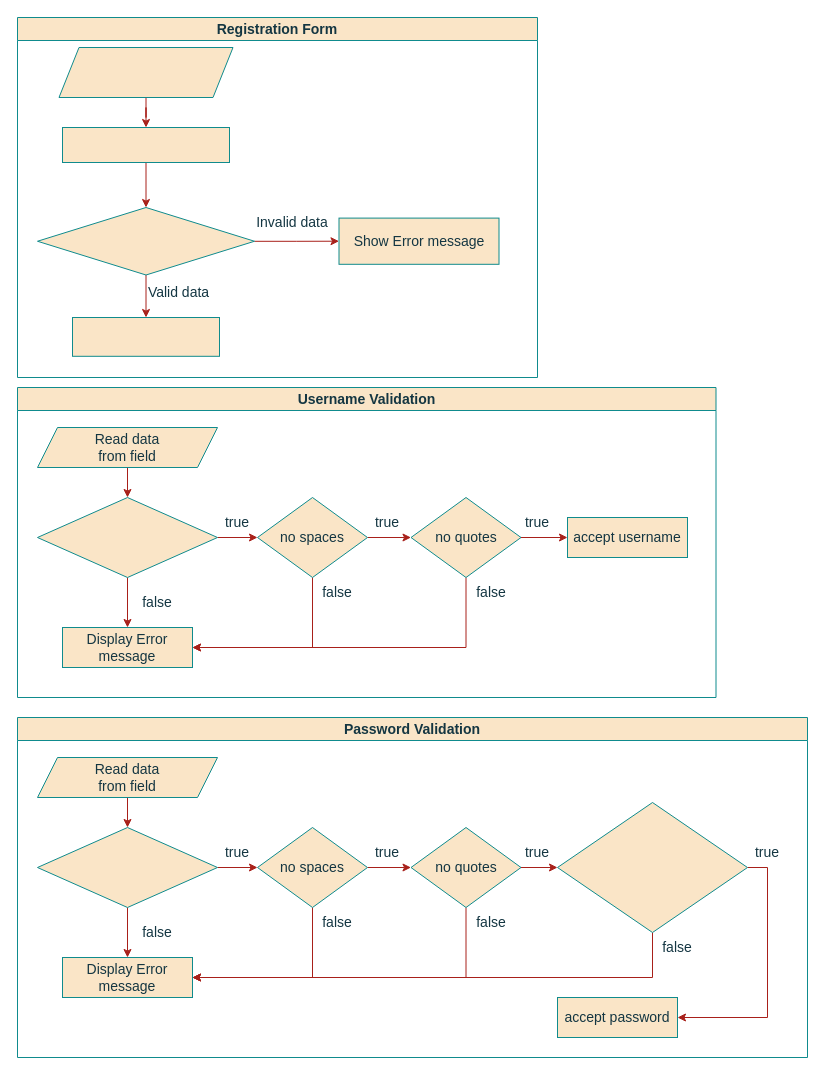
The diagram is 825 pixels wide and 1075 high, and some of its shapes have lost their labels. Here are the shapes that lost their labels. From the top down, the centre of each, then its label:
At (x=145, y=72): "Accept details from user".
At (x=146, y=144): "Validate all data".
At (x=145, y=240): "is data vald".
At (x=146, y=336): "Insert into database".
At (x=127, y=537): "length > 4 character".
At (x=127, y=867): "length > 8 character".
At (x=652, y=867): "at least 1 [uppercase, special symbol, number]".
